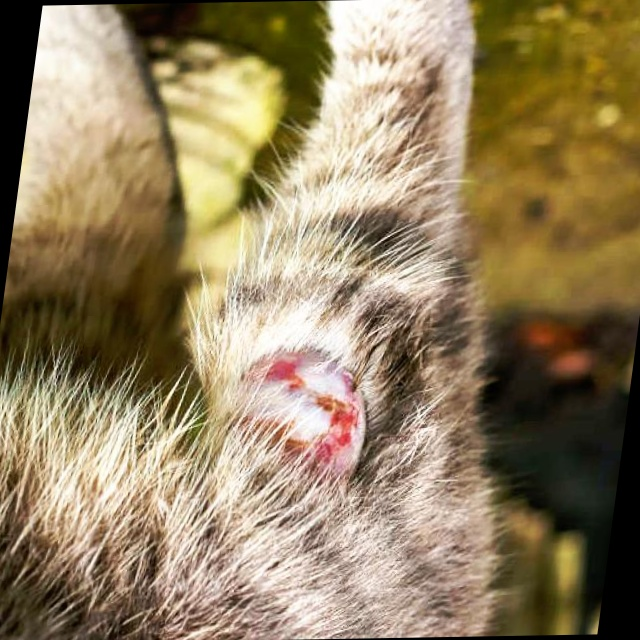lump_and_bump: (228, 349, 380, 497)
